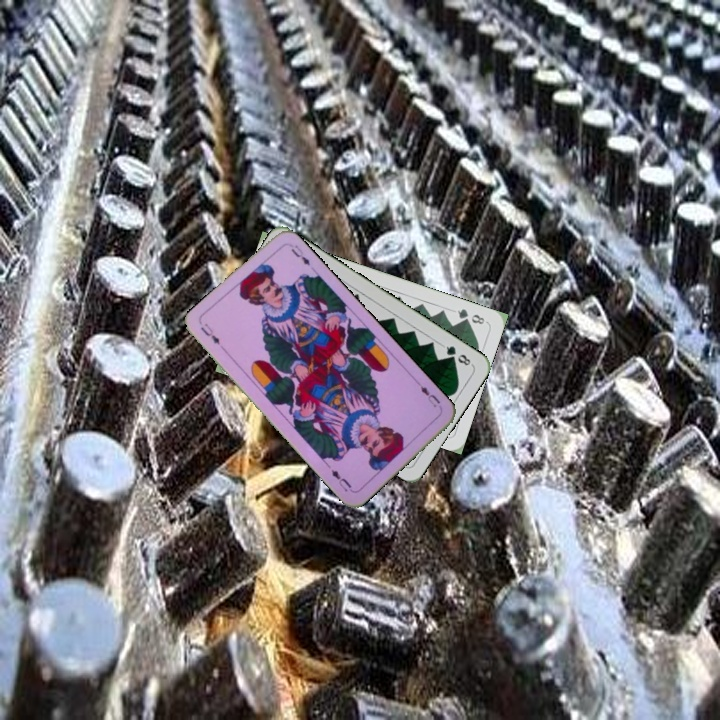EU: (413, 379, 443, 410), (196, 319, 223, 347)
G8: (439, 341, 475, 369), (453, 305, 487, 327)
